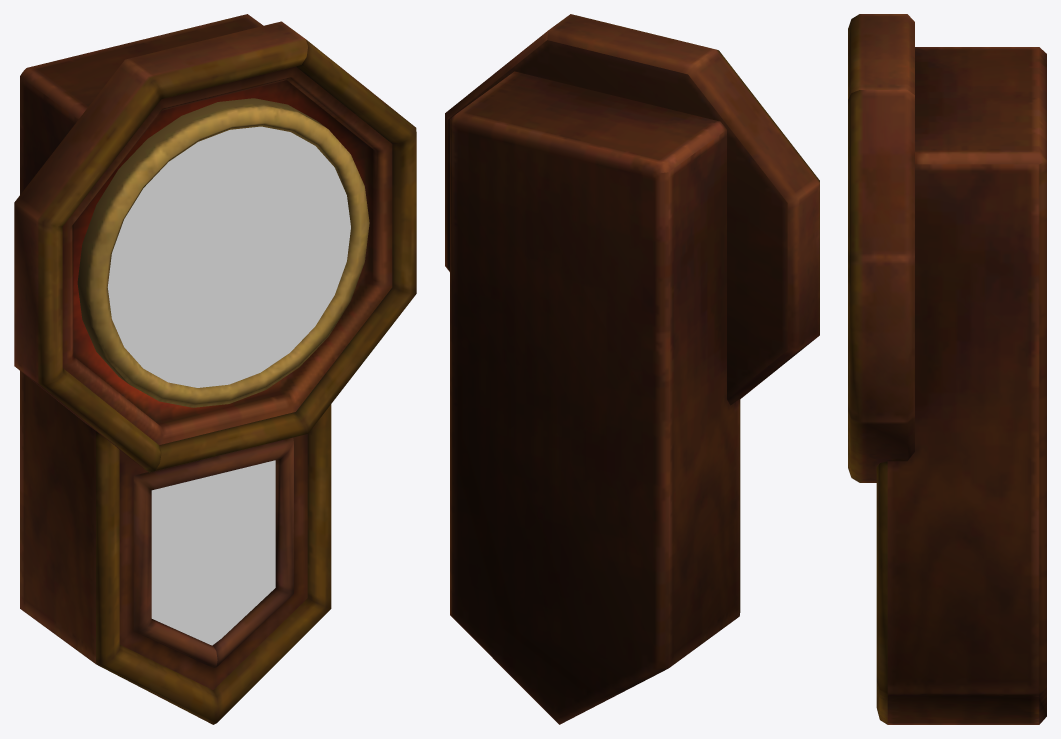
File: FtrClockPendulumWall.glb
3 renders of one model, left to right at view 1: azimuth 30°, elevation 25°; view 2: azimuth 150°, elevation 25°; view 3: azimuth 270°, elevation 25°, orthographic. The views are drawn at different scales.
Visible parts, largest first — view 1: Dial_low__mBody, Glass_low__mGlass; view 2: Dial_low__mBody; view 3: Dial_low__mBody.
Part boxes in pixels (box(x1,y1,x2,y2)): Dial_low__mBody: box(14, 14, 416, 724); Glass_low__mGlass: box(107, 126, 350, 645); Dial_low__mBody: box(445, 14, 819, 724); Dial_low__mBody: box(848, 14, 1046, 724).
Size of the model in its own units: 5.73 by 9.81 by 2.63.
2 materials, 1 textured.
